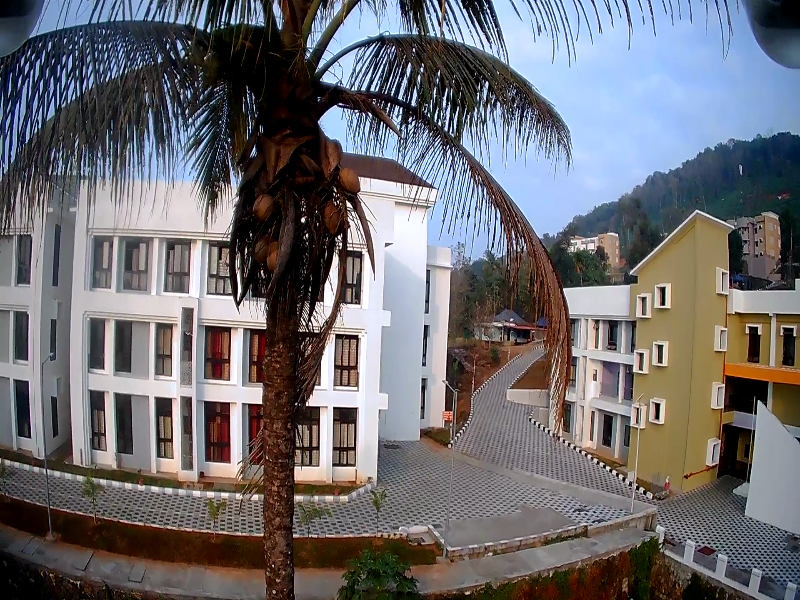coconut: (335, 166, 359, 200), (255, 195, 273, 227), (321, 201, 335, 234), (266, 237, 280, 268), (253, 234, 266, 260)
